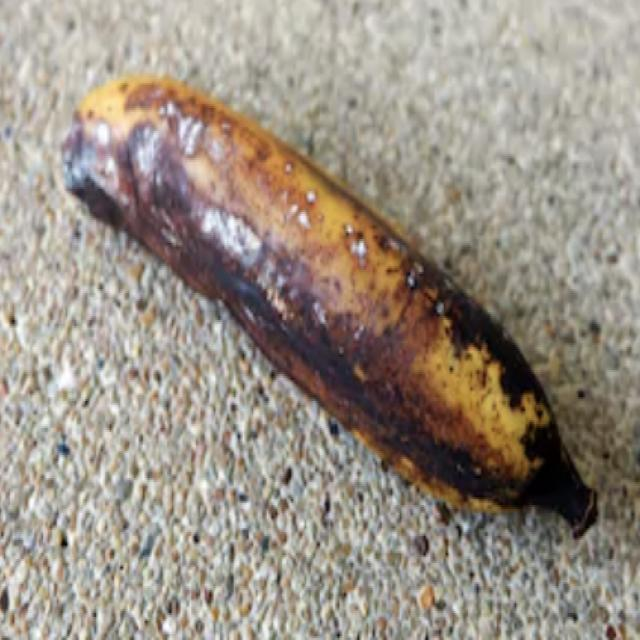rotten-banana: (55, 82, 586, 508)
